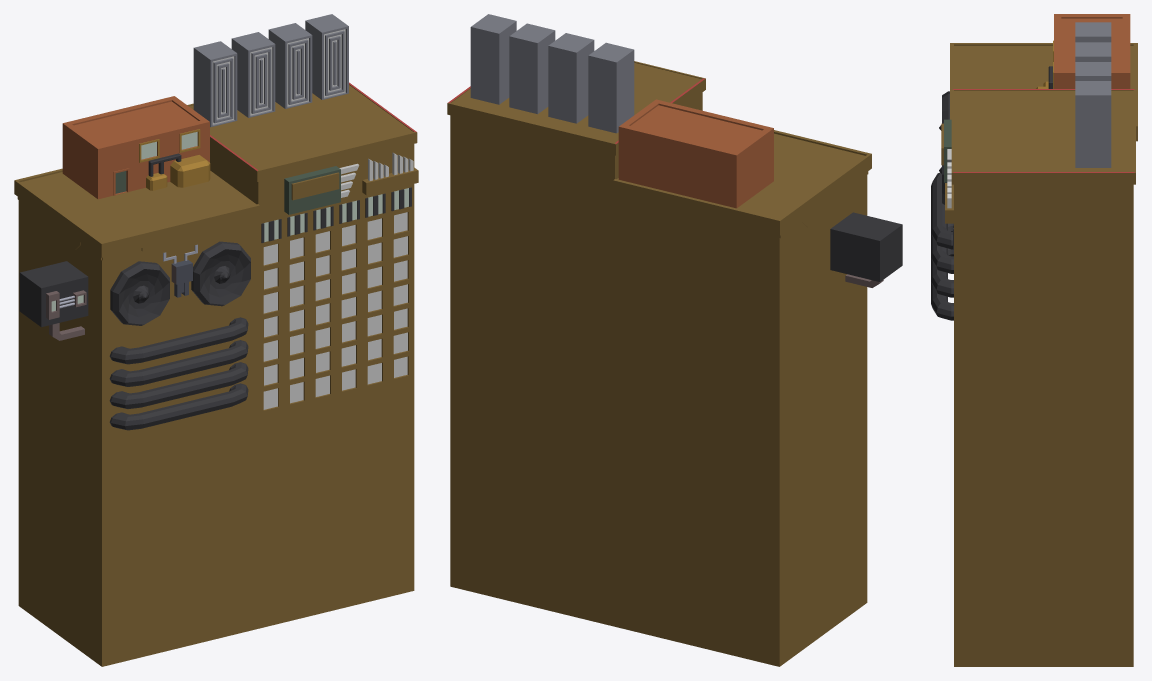
The model's file is House3.fbx.
3 views of the same model, side by side, from view 1: azimuth 30°, elevation 25°; view 2: azimuth 150°, elevation 25°; view 3: azimuth 270°, elevation 25° (orthographic). The views are drawn at different scales.
Visible parts, largest first — view 1: Cube; view 2: Cube; view 3: Cube.
Boxes of the visible parts, x1,y1,x2,y2 form: Cube: (14, 14, 418, 666); Cube: (447, 14, 902, 666); Cube: (931, 14, 1137, 666).
Size of the model in its own units: 1939 by 2695 by 891.
